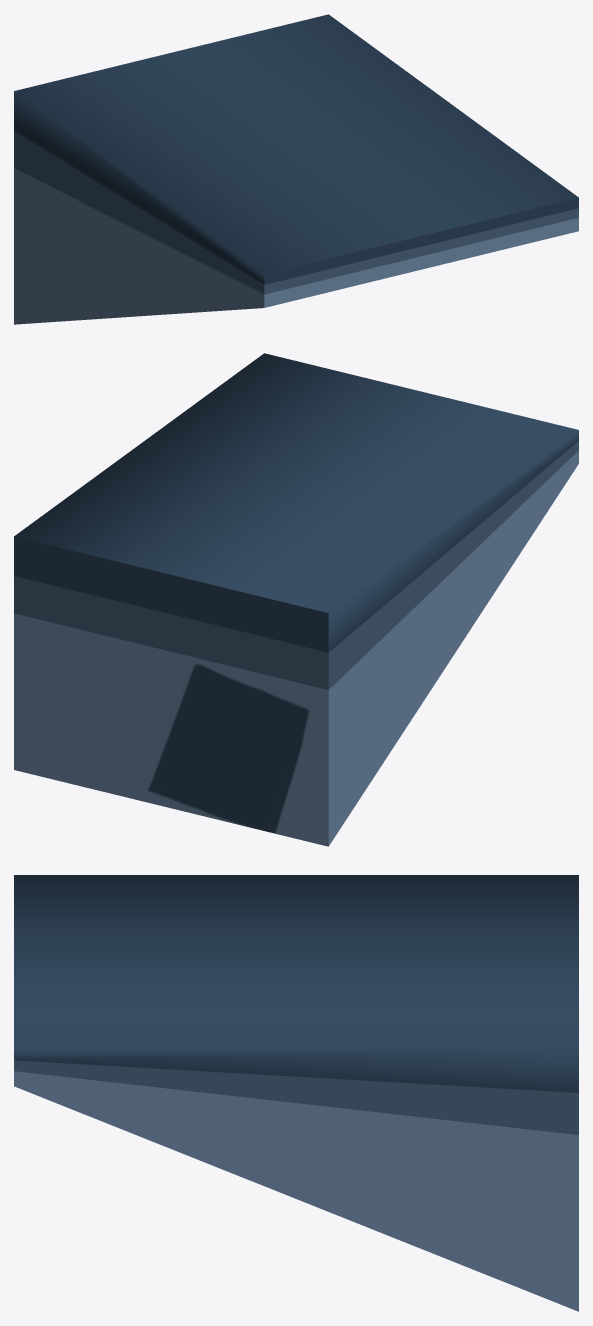
File: Rock_Triangle.fbx
3 views of the same model, one above another, from view 1: azimuth 30°, elevation 25°; view 2: azimuth 150°, elevation 25°; view 3: azimuth 270°, elevation 25° (orthographic). The views are drawn at different scales.
Parts seen in each view (by area): view 1: Land002; view 2: Land002; view 3: Land002.
Boxes of the visible parts, x1,y1,x2,y2 form: Land002: (14, 14, 578, 324); Land002: (14, 353, 578, 846); Land002: (14, 875, 578, 1311).
Size of the model in its own units: 72.83 by 51.65 by 100.
1 material, 1 textured.
